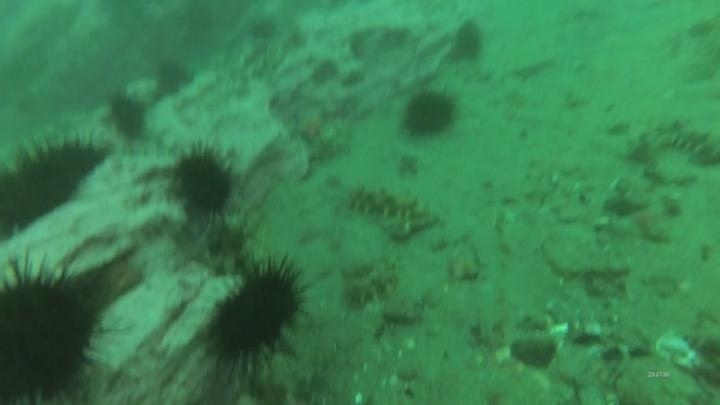echinus: (1, 259, 102, 404), (202, 258, 308, 375), (1, 152, 81, 235), (168, 143, 240, 222), (45, 133, 110, 191), (399, 87, 460, 141), (106, 92, 150, 142), (152, 57, 196, 99), (449, 19, 487, 66)
holothurian: (341, 182, 439, 233), (339, 252, 404, 310), (617, 120, 687, 155), (658, 129, 720, 166)
starfish: (288, 104, 332, 147)
